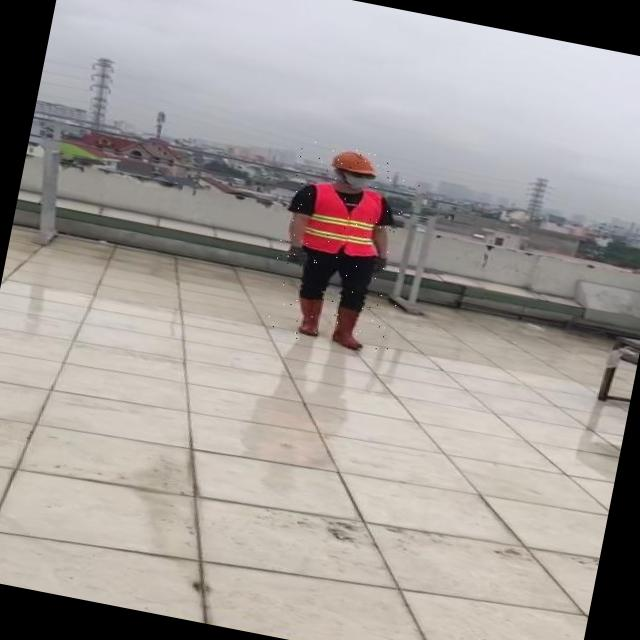hard_hat: (329, 147, 380, 177)
safety_vest: (301, 180, 390, 262)
vehicle: (262, 139, 423, 357)
work_boots: (326, 304, 371, 351), (288, 294, 326, 338)
